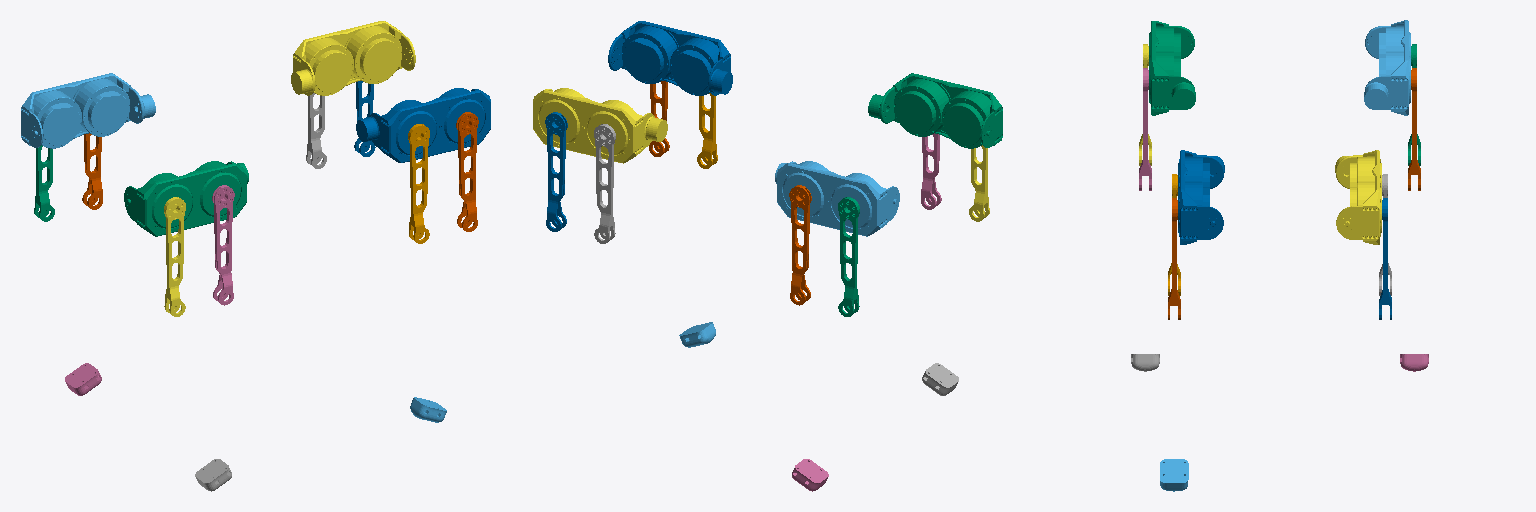
robot.urdf — olympus_v4_instanceable_open:
<?xml version='1.0' encoding='utf-8'?>
<robot name="olympus_v4_instanceable_open">
<link name="world"/> 

<link name="InnerShank_BL">
  <inertial>
    <origin xyz="0. 0. 0." rpy="0. 0. 0." />
    <mass value="1.0" />
    <inertia ixx="1.0" ixy="0.0" ixz="0.0" iyy="1.0" iyz="0.0" izz="1.0" />
  </inertial>
  <visual>
    <origin xyz="0. 0. 0." rpy="-0. 0.0000005 -1.5707961" />
    <geometry>
      <mesh filename="meshes/InnerShank_BL_visuals_xform_visuals.obj" scale="1. 1. 1." />
    </geometry>
  </visual>
  <!--collision>
    <origin xyz="0. -0.0202064 -0.1502008" rpy="-0. -0.0523594 -1.5707961" />
    <geometry>
      <cylinder radius="0.015" length="0.3" />
    </geometry>
  </collision-->
</link>
<link name="InnerShank_BR">
  <inertial>
    <origin xyz="0. 0. 0." rpy="0. 0. 0." />
    <mass value="1.0" />
    <inertia ixx="1.0" ixy="0.0" ixz="0.0" iyy="1.0" iyz="0.0" izz="1.0" />
  </inertial>
  <visual>
    <origin xyz="0. 0. 0." rpy="-0. 0.0000005 -1.5707961" />
    <geometry>
      <mesh filename="meshes/InnerShank_BR_visuals_xform_visuals.obj" scale="1. 1. 1." />
    </geometry>
  </visual>
  <!--collision>
    <origin xyz="0. -0.0202064 -0.1502008" rpy="-0. -0.0523594 -1.5707961" />
    <geometry>
      <cylinder radius="0.015" length="0.3" />
    </geometry>
  </collision-->
</link>
<link name="InnerShank_FL">
  <inertial>
    <origin xyz="0. 0. 0." rpy="0. 0. 0." />
    <mass value="1.0" />
    <inertia ixx="1.0" ixy="0.0" ixz="0.0" iyy="1.0" iyz="0.0" izz="1.0" />
  </inertial>
  <visual>
    <origin xyz="0. 0. 0." rpy="-0. -0.0000057 1.5707964" />
    <geometry>
      <mesh filename="meshes/InnerShank_FL_visuals_xform_visuals.obj" scale="1. 1. 1." />
    </geometry>
  </visual>
  <!--collision>
    <origin xyz="0. -0.0202091 -0.1502009" rpy="-0. 0.0523542 1.5707964" />
    <geometry>
      <cylinder radius="0.015" length="0.3" />
    </geometry>
  </collision-->
</link>
<link name="InnerShank_FR">
  <inertial>
    <origin xyz="0. 0. 0." rpy="0. 0. 0." />
    <mass value="1.0" />
    <inertia ixx="1.0" ixy="0.0" ixz="0.0" iyy="1.0" iyz="0.0" izz="1.0" />
  </inertial>
  <visual>
    <origin xyz="0. 0. 0." rpy="-0. -0.0000057 1.5707964" />
    <geometry>
      <mesh filename="meshes/InnerShank_FR_visuals_xform_visuals.obj" scale="1. 1. 1." />
    </geometry>
  </visual>
  <!--collision>
    <origin xyz="0. -0.0202091 -0.1502009" rpy="-0. 0.0523542 1.5707964" />
    <geometry>
      <cylinder radius="0.015" length="0.3" />
    </geometry>
  </collision-->
</link>
<link name="InnerThigh_BL">
  <inertial>
    <origin xyz="0. 0. 0." rpy="0. 0. 0." />
    <mass value="1.0" />
    <inertia ixx="1.0" ixy="0.0" ixz="0.0" iyy="1.0" iyz="0.0" izz="1.0" />
  </inertial>
  <visual>
    <origin xyz="0. 0. 0." rpy="0. 0. 1.5707961" />
    <geometry>
      <mesh filename="meshes/InnerThigh_BL_visuals_xform_visuals.obj" scale="1. 1. 1." />
    </geometry>
  </visual>
  <!--collision>
    <origin xyz="0. 0. -0.0843053" rpy="0. 0. 1.5707961" />
    <geometry>
      <box size="0.04 0.01 0.18" />
    </geometry>
  </collision-->
</link>
<link name="InnerThigh_BR">
  <inertial>
    <origin xyz="0. 0. 0." rpy="0. 0. 0." />
    <mass value="1.0" />
    <inertia ixx="1.0" ixy="0.0" ixz="0.0" iyy="1.0" iyz="0.0" izz="1.0" />
  </inertial>
  <visual>
    <origin xyz="0. 0. 0." rpy="0. 0. 1.5707961" />
    <geometry>
      <mesh filename="meshes/InnerThigh_BR_visuals_xform_visuals.obj" scale="1. 1. 1." />
    </geometry>
  </visual>
  <!--collision>
    <origin xyz="0. 0. -0.0843053" rpy="0. 0. 1.5707961" />
    <geometry>
      <box size="0.04 0.01 0.18" />
    </geometry>
  </collision-->
</link>
<link name="InnerThigh_FL">
  <inertial>
    <origin xyz="0. 0. 0." rpy="0. 0. 0." />
    <mass value="1.0" />
    <inertia ixx="1.0" ixy="0.0" ixz="0.0" iyy="1.0" iyz="0.0" izz="1.0" />
  </inertial>
  <visual>
    <origin xyz="0. 0. 0." rpy="0. 0. -1.5707961" />
    <geometry>
      <mesh filename="meshes/InnerThigh_FL_visuals_xform_visuals.obj" scale="1. 1. 1." />
    </geometry>
  </visual>
  <!--collision>
    <origin xyz="0. 0. -0.0843053" rpy="0. 0. -1.5707961" />
    <geometry>
      <box size="0.04 0.01 0.18" />
    </geometry>
  </collision-->
</link>
<link name="InnerThigh_FR">
  <inertial>
    <origin xyz="0. 0. 0." rpy="0. 0. 0." />
    <mass value="1.0" />
    <inertia ixx="1.0" ixy="0.0" ixz="0.0" iyy="1.0" iyz="0.0" izz="1.0" />
  </inertial>
  <visual>
    <origin xyz="0. 0. 0." rpy="0. 0. -1.5707961" />
    <geometry>
      <mesh filename="meshes/InnerThigh_FR_visuals_xform_visuals.obj" scale="1. 1. 1." />
    </geometry>
  </visual>
  <!--collision>
    <origin xyz="0. 0. -0.0843053" rpy="0. 0. -1.5707961" />
    <geometry>
      <box size="0.04 0.01 0.18" />
    </geometry>
  </collision-->
</link>
<link name="MotorHosing_BL">
  <inertial>
    <origin xyz="0. 0. 0." rpy="0. 0. 0." />
    <mass value="1.0" />
    <inertia ixx="1.0" ixy="0.0" ixz="0.0" iyy="1.0" iyz="0.0" izz="1.0" />
  </inertial>
  <visual>
    <origin xyz="0. 0. 0." rpy="0. 0. 0." />
    <geometry>
      <mesh filename="meshes/MotorHosing_BL_visuals_xform_visuals.obj" scale="1. 1. 1." />
    </geometry>
  </visual>
</link>
<link name="MotorHousing_BR">
  <inertial>
    <origin xyz="0. 0. 0." rpy="0. 0. 0." />
    <mass value="1.0" />
    <inertia ixx="1.0" ixy="0.0" ixz="0.0" iyy="1.0" iyz="0.0" izz="1.0" />
  </inertial>
  <visual>
    <origin xyz="0. 0. 0." rpy="0. 0. -3.1415927" />
    <geometry>
      <mesh filename="meshes/MotorHousing_BR_visuals_xform_visuals.obj" scale="1. 1. 1." />
    </geometry>
  </visual>
</link>
<link name="MotorHousing_FL">
  <inertial>
    <origin xyz="0. 0. 0." rpy="0. 0. 0." />
    <mass value="1.0" />
    <inertia ixx="1.0" ixy="0.0" ixz="0.0" iyy="1.0" iyz="0.0" izz="1.0" />
  </inertial>
  <visual>
    <origin xyz="0. 0. 0." rpy="0. 0. 0." />
    <geometry>
      <mesh filename="meshes/MotorHousing_FL_visuals_xform_visuals.obj" scale="1. 1. 1." />
    </geometry>
  </visual>
</link>
<link name="MotorHousing_FR">
  <inertial>
    <origin xyz="0. 0. 0." rpy="0. 0. 0." />
    <mass value="1.0" />
    <inertia ixx="1.0" ixy="0.0" ixz="0.0" iyy="1.0" iyz="0.0" izz="1.0" />
  </inertial>
  <visual>
    <origin xyz="0. 0. 0." rpy="3.1415927 0.0000001 3.1415927" />
    <geometry>
      <mesh filename="meshes/MotorHousing_FR_visuals_xform_visuals.obj" scale="1. 1. 1." />
    </geometry>
  </visual>
</link>
<link name="Body">
  <visual>
    <origin xyz="0. 0. 1." rpy="0. 0. 0." />
    <geometry>
      <mesh filename="meshes/Body_visuals_xform_visuals.obj" scale="1. 1. 1." />
    </geometry>
  </visual>
  <!--collision>
    <origin xyz="0. 0. 1.0155424" rpy="0. 0. 0." />
    <geometry>
      <box size="0.24 0.23 0.13" />
    </geometry>
  </collision-->
  <!--collision>
    <origin xyz="0. 0. 1.0330414" rpy="0. 0. 0." />
    <geometry>
      <box size="0.7 0.15 0.15" />
    </geometry>
  </collision-->
  <!--collision>
    <origin xyz="0.1182589 -0.0947598 1. " rpy="0. 1.5707964 0. " />
    <geometry>
      <cylinder radius="0.06" length="0.04" />
    </geometry>
  </collision-->
  <!--collision>
    <origin xyz="0.1182589 0.09476 1. " rpy="0. 1.5707964 0. " />
    <geometry>
      <cylinder radius="0.06" length="0.04" />
    </geometry>
  </collision-->
  <!--collision>
    <origin xyz="-0.121796 0.1391862 1. " rpy="0. 1.5707964 0. " />
    <geometry>
      <cylinder radius="0.06" length="0.04" />
    </geometry>
  </collision-->
  <!--collision>
    <origin xyz="-0.121796 -0.13919 1. " rpy="0. 1.5707964 0. " />
    <geometry>
      <cylinder radius="0.06" length="0.04" />
    </geometry>
  </collision-->
</link>
<link name="OuterShank_BL">
  <inertial>
    <origin xyz="0. 0. 0." rpy="0. 0. 0." />
    <mass value="1.0" />
    <inertia ixx="1.0" ixy="0.0" ixz="0.0" iyy="1.0" iyz="0.0" izz="1.0" />
  </inertial>
  <visual>
    <origin xyz="0. 0. 0." rpy="-0. -0.0000045 1.5707963" />
    <geometry>
      <mesh filename="meshes/OuterShank_BL_visuals_xform_visuals.obj" scale="1. 1. 1." />
    </geometry>
  </visual>
  <!--collision>
    <origin xyz="0. -0.00643 -0.1501257" rpy="-0. -0.0523644 1.5707963" />
    <geometry>
      <cylinder radius="0.015" length="0.3" />
    </geometry>
  </collision-->
</link>
<link name="OuterShank_BR">
  <inertial>
    <origin xyz="0. 0. 0." rpy="0. 0. 0." />
    <mass value="1.0" />
    <inertia ixx="1.0" ixy="0.0" ixz="0.0" iyy="1.0" iyz="0.0" izz="1.0" />
  </inertial>
  <visual>
    <origin xyz="0. 0. 0." rpy="-0. -0.0000045 1.5707963" />
    <geometry>
      <mesh filename="meshes/OuterShank_BR_visuals_xform_visuals.obj" scale="1. 1. 1." />
    </geometry>
  </visual>
  <!--collision>
    <origin xyz="0. -0.00643 -0.1501257" rpy="-0. -0.0523644 1.5707963" />
    <geometry>
      <cylinder radius="0.015" length="0.3" />
    </geometry>
  </collision-->
</link>
<link name="OuterShank_FL">
  <inertial>
    <origin xyz="0. 0. 0." rpy="0. 0. 0." />
    <mass value="1.0" />
    <inertia ixx="1.0" ixy="0.0" ixz="0.0" iyy="1.0" iyz="0.0" izz="1.0" />
  </inertial>
  <visual>
    <origin xyz="0. 0. 0." rpy="0. 0.0000006 -1.5707964" />
    <geometry>
      <mesh filename="meshes/OuterShank_FL_visuals_xform_visuals.obj" scale="1. 1. 1." />
    </geometry>
  </visual>
  <!--collision>
    <origin xyz="0. -0.0064299 -0.1501257" rpy="0. 0.0523605 -1.5707964" />
    <geometry>
      <cylinder radius="0.015" length="0.3" />
    </geometry>
  </collision-->
</link>
<link name="OuterShank_FR">
  <inertial>
    <origin xyz="0. 0. 0." rpy="0. 0. 0." />
    <mass value="1.0" />
    <inertia ixx="1.0" ixy="0.0" ixz="0.0" iyy="1.0" iyz="0.0" izz="1.0" />
  </inertial>
  <visual>
    <origin xyz="0. 0. 0." rpy="0. 0.0000006 -1.5707964" />
    <geometry>
      <mesh filename="meshes/OuterShank_FR_visuals_xform_visuals.obj" scale="1. 1. 1." />
    </geometry>
  </visual>
  <!--collision>
    <origin xyz="0. -0.0064299 -0.1501257" rpy="0. 0.0523605 -1.5707964" />
    <geometry>
      <cylinder radius="0.015" length="0.3" />
    </geometry>
  </collision-->
</link>
<link name="OuterThigh_BL">
  <inertial>
    <origin xyz="0. 0. 0." rpy="0. 0. 0." />
    <mass value="1.0" />
    <inertia ixx="1.0" ixy="0.0" ixz="0.0" iyy="1.0" iyz="0.0" izz="1.0" />
  </inertial>
  <visual>
    <origin xyz="0. 0. 0." rpy="0. 0. -1.5707961" />
    <geometry>
      <mesh filename="meshes/OuterThigh_BL_visuals_xform_visuals.obj" scale="1. 1. 1." />
    </geometry>
  </visual>
  <!--collision>
    <origin xyz="0. 0. -0.0843053" rpy="0. 0. -1.5707961" />
    <geometry>
      <box size="0.04 0.01 0.18" />
    </geometry>
  </collision-->
</link>
<link name="OuterThigh_BR">
  <inertial>
    <origin xyz="0. 0. 0." rpy="0. 0. 0." />
    <mass value="1.0" />
    <inertia ixx="1.0" ixy="0.0" ixz="0.0" iyy="1.0" iyz="0.0" izz="1.0" />
  </inertial>
  <visual>
    <origin xyz="0. 0. 0." rpy="0. 0. -1.5707961" />
    <geometry>
      <mesh filename="meshes/OuterThigh_BR_visuals_xform_visuals.obj" scale="1. 1. 1." />
    </geometry>
  </visual>
  <!--collision>
    <origin xyz="0. 0. -0.0843053" rpy="0. 0. -1.5707961" />
    <geometry>
      <box size="0.04 0.01 0.18" />
    </geometry>
  </collision-->
</link>
<link name="OuterThigh_FL">
  <inertial>
    <origin xyz="0. 0. 0." rpy="0. 0. 0." />
    <mass value="1.0" />
    <inertia ixx="1.0" ixy="0.0" ixz="0.0" iyy="1.0" iyz="0.0" izz="1.0" />
  </inertial>
  <visual>
    <origin xyz="0. 0. 0." rpy="0. 0. 1.5707961" />
    <geometry>
      <mesh filename="meshes/OuterThigh_FL_visuals_xform_visuals.obj" scale="1. 1. 1." />
    </geometry>
  </visual>
  <!--collision>
    <origin xyz="0. 0. -0.0843053" rpy="0. 0. 1.5707961" />
    <geometry>
      <box size="0.04 0.01 0.18" />
    </geometry>
  </collision-->
</link>
<link name="OuterThigh_FR">
  <inertial>
    <origin xyz="0. 0. 0." rpy="0. 0. 0." />
    <mass value="1.0" />
    <inertia ixx="1.0" ixy="0.0" ixz="0.0" iyy="1.0" iyz="0.0" izz="1.0" />
  </inertial>
  <visual>
    <origin xyz="0. 0. 0." rpy="0. 0. 1.5707961" />
    <geometry>
      <mesh filename="meshes/OuterThigh_FR_visuals_xform_visuals.obj" scale="1. 1. 1." />
    </geometry>
  </visual>
  <!--collision>
    <origin xyz="0. 0. -0.0843053" rpy="0. 0. 1.5707961" />
    <geometry>
      <box size="0.04 0.01 0.18" />
    </geometry>
  </collision-->
</link>
<link name="Paw_BL">
  <inertial>
    <origin xyz="0. 0. 0." rpy="0. 0. 0." />
    <mass value="1.0" />
    <inertia ixx="1.0" ixy="0.0" ixz="0.0" iyy="1.0" iyz="0.0" izz="1.0" />
  </inertial>
  <visual>
    <origin xyz="0.0000001 0. -0.0000001" rpy="0. -1.5707958 -0. " />
    <geometry>
      <mesh filename="meshes/Paw_BL_visuals_xform_visuals.obj" scale="1. 1. 1." />
    </geometry>
  </visual>
  <visual>
    <origin xyz="0.0000001 0. -0.0000001" rpy="0. -1.5707958 -0. " />
    <geometry>
      <mesh filename="meshes/Paw_BL_collisions_xform_collisions.obj" scale="1. 1. 1." />
    </geometry>
  </visual>
  <!--collision>
    <origin xyz="0.0000001 0. -0.0000001" rpy="0. -1.5707958 -0. " />
    <geometry>
      <mesh filename="meshes/Paw_BL_collisions_xform_collisions.obj" scale="1. 1. 1." />
    </geometry>
  </collision-->
</link>
<link name="Paw_BR">
  <inertial>
    <origin xyz="0. 0. 0." rpy="0. 0. 0." />
    <mass value="1.0" />
    <inertia ixx="1.0" ixy="0.0" ixz="0.0" iyy="1.0" iyz="0.0" izz="1.0" />
  </inertial>
  <visual>
    <origin xyz="0.0000001 0. -0.0000001" rpy="-0. -1.5707958 0. " />
    <geometry>
      <mesh filename="meshes/Paw_BR_visuals_xform_visuals.obj" scale="1. 1. 1." />
    </geometry>
  </visual>
  <visual>
    <origin xyz="0.0000001 0. -0.0000001" rpy="-0. -1.5707958 0. " />
    <geometry>
      <mesh filename="meshes/Paw_BR_collisions_xform_collisions.obj" scale="1. 1. 1." />
    </geometry>
  </visual>
  <!--collision>
    <origin xyz="0.0000001 0. -0.0000001" rpy="-0. -1.5707958 0. " />
    <geometry>
      <mesh filename="meshes/Paw_BR_collisions_xform_collisions.obj" scale="1. 1. 1." />
    </geometry>
  </collision-->
</link>
<link name="Paw_FL">
  <inertial>
    <origin xyz="0. 0. 0." rpy="0. 0. 0." />
    <mass value="1.0" />
    <inertia ixx="1.0" ixy="0.0" ixz="0.0" iyy="1.0" iyz="0.0" izz="1.0" />
  </inertial>
  <visual>
    <origin xyz="0.0000001 0. 0.0000001" rpy="-3.1415925 -1.5707958 3.1415925" />
    <geometry>
      <mesh filename="meshes/Paw_FL_visuals_xform_visuals.obj" scale="1. 1. 1." />
    </geometry>
  </visual>
  <visual>
    <origin xyz="0.0000001 0. 0.0000001" rpy="-3.1415925 -1.5707958 3.1415925" />
    <geometry>
      <mesh filename="meshes/Paw_FL_collisions_xform_collisions.obj" scale="1. 1. 1." />
    </geometry>
  </visual>
  <!--collision>
    <origin xyz="0.0000001 0. 0.0000001" rpy="-3.1415925 -1.5707958 3.1415925" />
    <geometry>
      <mesh filename="meshes/Paw_FL_collisions_xform_collisions.obj" scale="1. 1. 1." />
    </geometry>
  </collision-->
</link>
<link name="Paw_FR">
  <inertial>
    <origin xyz="0. 0. 0." rpy="0. 0. 0." />
    <mass value="1.0" />
    <inertia ixx="1.0" ixy="0.0" ixz="0.0" iyy="1.0" iyz="0.0" izz="1.0" />
  </inertial>
  <visual>
    <origin xyz="0.0000001 0. 0.0000001" rpy="-3.1415925 -1.5707958 3.1415925" />
    <geometry>
      <mesh filename="meshes/Paw_FR_visuals_xform_visuals.obj" scale="1. 1. 1." />
    </geometry>
  </visual>
  <visual>
    <origin xyz="0.0000001 0. 0.0000001" rpy="-3.1415925 -1.5707958 3.1415925" />
    <geometry>
      <mesh filename="meshes/Paw_FR_collisions_xform_collisions.obj" scale="1. 1. 1." />
    </geometry>
  </visual>
  <!--collision>
    <origin xyz="0.0000001 0. 0.0000001" rpy="-3.1415925 -1.5707958 3.1415925" />
    <geometry>
      <mesh filename="meshes/Paw_FR_collisions_xform_collisions.obj" scale="1. 1. 1." />
    </geometry>
  </collision-->
</link>

<joint name="world_joint" type="fixed">
  <parent link="world"/>
  <child link="Body"/>
  <origin xyz="0 0 0" rpy="0 0 0"/>
</joint>

<joint name="BackLeft_paw" type="fixed">
  <origin xyz="0. -0.034316 -0.3182872" rpy="3.1415927 0.9830509 -1.5707963" />
  <parent link="InnerShank_BL" />
  <child link="Paw_BL" />
</joint>
<joint name="BackRight_paw" type="fixed">
  <origin xyz="0. -0.034316 -0.3182872" rpy="3.1415927 0.9830509 -1.5707961" />
  <parent link="InnerShank_BR" />
  <child link="Paw_BR" />
</joint>
<joint name="FrontLeft_paw" type="fixed">
  <origin xyz="0. -0.0343144 -0.3182873" rpy="0. 0.9830561 -1.5707963" />
  <parent link="InnerShank_FL" />
  <child link="Paw_FL" />
</joint>
<joint name="FrontRight_paw" type="fixed">
  <origin xyz="0. -0.0343144 -0.3182873" rpy="0. 0.9830561 -1.5707963" />
  <parent link="InnerShank_FR" />
  <child link="Paw_FR" />
</joint>
<joint name="InnerKnee_BL" type="continuous">
  <origin xyz="-0.00075 0. -0.175 " rpy="0.1561075 0. 3.1415925" />
  <parent link="InnerThigh_BL" />
  <child link="InnerShank_BL" />
  <axis xyz="1. 0. 0." />
</joint>
<joint name="InnerKnee_BR" type="continuous">
  <origin xyz="0.00075 -0. -0.175 " rpy="0.1561075 0. 3.1415925" />
  <parent link="InnerThigh_BR" />
  <child link="InnerShank_BR" />
  <axis xyz="1. 0. 0." />
</joint>
<joint name="InnerKnee_FL" type="continuous">
  <origin xyz="0.00075 0. -0.175 " rpy="0.1561023 0. -3.1415925" />
  <parent link="InnerThigh_FL" />
  <child link="InnerShank_FL" />
  <axis xyz="1. 0. 0." />
</joint>
<joint name="InnerKnee_FR" type="continuous">
  <origin xyz="-0.00075 -0. -0.175 " rpy="0.1561023 0. -3.1415925" />
  <parent link="InnerThigh_FR" />
  <child link="InnerShank_FR" />
  <axis xyz="1. 0. 0." />
</joint>
<joint name="InnerTransversalMotor_BL" type="continuous">
  <origin xyz="-0.0517 0.05945 0.0000113" rpy="0. 0. -1.5707964" />
  <parent link="MotorHosing_BL" />
  <child link="InnerThigh_BL" />
  <axis xyz="1. 0. 0." />
</joint>
<joint name="InnerTransversalMotor_BR" type="continuous">
  <origin xyz="0.0517 0.05945 -0.0000113" rpy="0. 0. 1.5707964" />
  <parent link="MotorHousing_BR" />
  <child link="InnerThigh_BR" />
  <axis xyz="1. 0. 0." />
</joint>
<joint name="InnerTransversalMotor_FL" type="continuous">
  <origin xyz="0.0517 0.05945 -0.0000113" rpy="0. 0. 1.5707964" />
  <parent link="MotorHousing_FL" />
  <child link="InnerThigh_FL" />
  <axis xyz="1. 0. 0." />
</joint>
<joint name="InnerTransversalMotor_FR" type="continuous">
  <origin xyz="-0.0517 -0.05945 -0.0000113" rpy="3.1415925 0. 1.5707964" />
  <parent link="MotorHousing_FR" />
  <child link="InnerThigh_FR" />
  <axis xyz="1. 0. 0." />
</joint>
<joint name="LateralMotor_BL" type="continuous">
  <origin xyz="-0.1433 0.15 1. " rpy="0. 0. 0." />
  <parent link="Body" />
  <child link="MotorHosing_BL" />
  <axis xyz="1. 0. 0." />
</joint>
<joint name="LateralMotor_BR" type="continuous">
  <origin xyz="-0.1433 -0.15 1. " rpy="0. 0. 3.1415927" />
  <parent link="Body" />
  <child link="MotorHousing_BR" />
  <axis xyz="1. 0. 0." />
</joint>
<joint name="LateralMotor_FL" type="continuous">
  <origin xyz="0.1433 0.105 1. " rpy="0. 0. 0." />
  <parent link="Body" />
  <child link="MotorHousing_FL" />
  <axis xyz="1. 0. 0." />
</joint>
<joint name="LateralMotor_FR" type="continuous">
  <origin xyz="0.1433 -0.105 1. " rpy="3.1415927 -0.0000001 3.1415927" />
  <parent link="Body" />
  <child link="MotorHousing_FR" />
  <axis xyz="1. 0. 0." />
</joint>
<joint name="OuterKneeBL" type="continuous">
  <origin xyz="0.00075 0. -0.175 " rpy="0.1455256 0. -3.1415925" />
  <parent link="OuterThigh_BL" />
  <child link="OuterShank_BL" />
  <axis xyz="1. 0. 0." />
</joint>
<joint name="OuterKnee_BR" type="continuous">
  <origin xyz="-0.00075 -0. -0.175 " rpy="0.1455256 0. -3.1415925" />
  <parent link="OuterThigh_BR" />
  <child link="OuterShank_BR" />
  <axis xyz="1. 0. 0." />
</joint>
<joint name="OuterKnee_FL" type="continuous">
  <origin xyz="-0.00075 0. -0.175 " rpy="0.1455295 0. 3.1415925" />
  <parent link="OuterThigh_FL" />
  <child link="OuterShank_FL" />
  <axis xyz="1. 0. 0." />
</joint>
<joint name="OuterKnee_FR" type="continuous">
  <origin xyz="0.00075 -0. -0.175 " rpy="0.1455295 0. 3.1415925" />
  <parent link="OuterThigh_FR" />
  <child link="OuterShank_FR" />
  <axis xyz="1. 0. 0." />
</joint>
<joint name="OuterTransversalMotor_BL" type="continuous">
  <origin xyz="-0.1417 0.05945 0.0000113" rpy="0. 0. 1.5707964" />
  <parent link="MotorHosing_BL" />
  <child link="OuterThigh_BL" />
  <axis xyz="1. 0. 0." />
</joint>
<joint name="OuterTransversalMotor_BR" type="continuous">
  <origin xyz="0.1417 0.05945 -0.0000113" rpy="0. 0. -1.5707964" />
  <parent link="MotorHousing_BR" />
  <child link="OuterThigh_BR" />
  <axis xyz="1. 0. 0." />
</joint>
<joint name="OuterTransversalMotor_FL" type="continuous">
  <origin xyz="0.1417 0.05945 -0.0000113" rpy="0. 0. -1.5707964" />
  <parent link="MotorHousing_FL" />
  <child link="OuterThigh_FL" />
  <axis xyz="1. 0. 0." />
</joint>
<joint name="OuterTransversalMotor_FR" type="continuous">
  <origin xyz="-0.1417 -0.05945 -0.0000114" rpy="-3.1415925 0. -1.5707964" />
  <parent link="MotorHousing_FR" />
  <child link="OuterThigh_FR" />
  <axis xyz="1. 0. 0." />
</joint>
  
</robot>

--- Render facts (derived) ---
3 views of the same robot in one strip: view 1: azimuth 30°, elevation 25°; view 2: azimuth 150°, elevation 25°; view 3: azimuth 270°, elevation 25° (orthographic).
Model olympus_v4_instanceable_open with 26 links and 25 joints (20 continuous, 5 fixed), rooted at world, posed all joints at 0.
Visible links, largest first — view 1: MotorHosing_BL, MotorHousing_FL, MotorHousing_FR, MotorHousing_BR, InnerThigh_BR, OuterThigh_FR, InnerThigh_FR, OuterThigh_BR, InnerThigh_BL, OuterThigh_BL, InnerThigh_FL, Paw_BL (+3 smaller); view 2: MotorHousing_BR, MotorHousing_FR, MotorHousing_FL, MotorHosing_BL, InnerThigh_BL, OuterThigh_FL, InnerThigh_FL, OuterThigh_BL, InnerThigh_BR, OuterThigh_BR, InnerThigh_FR, Paw_BR (+3 smaller); view 3: MotorHosing_BL, MotorHousing_BR, MotorHousing_FL, MotorHousing_FR, Paw_FR, InnerThigh_BR, InnerThigh_BL, OuterThigh_FR, OuterThigh_FL.
Link boxes in pixels (x1,y1,x2,y2): MotorHosing_BL: (21, 73, 155, 148); MotorHousing_FL: (291, 21, 415, 95); MotorHousing_FR: (356, 88, 490, 162); MotorHousing_BR: (124, 161, 248, 236); InnerThigh_BR: (212, 185, 234, 305); OuterThigh_FR: (456, 112, 478, 231); InnerThigh_FR: (408, 124, 429, 243); OuterThigh_BR: (164, 197, 185, 316); InnerThigh_BL: (82, 133, 102, 209); OuterThigh_BL: (34, 145, 54, 221); InnerThigh_FL: (306, 93, 326, 168); Paw_BL: (65, 363, 101, 395); MotorHousing_BR: (868, 73, 1002, 148); MotorHousing_FR: (608, 21, 732, 95); MotorHousing_FL: (533, 88, 667, 163); MotorHosing_BL: (775, 161, 899, 236); InnerThigh_BL: (789, 185, 811, 305); OuterThigh_FL: (545, 112, 567, 231); InnerThigh_FL: (594, 124, 615, 243); OuterThigh_BL: (838, 197, 859, 316); InnerThigh_BR: (921, 133, 941, 209); OuterThigh_BR: (969, 145, 989, 221); InnerThigh_FR: (697, 93, 717, 168); Paw_BR: (922, 363, 958, 395); MotorHosing_BL: (1364, 20, 1410, 115); MotorHousing_BR: (1149, 21, 1195, 115); MotorHousing_FL: (1335, 150, 1381, 244); MotorHousing_FR: (1178, 150, 1224, 244); Paw_FR: (1160, 459, 1188, 491); InnerThigh_BR: (1139, 68, 1151, 190); InnerThigh_BL: (1408, 68, 1420, 190); OuterThigh_FR: (1168, 198, 1180, 319); OuterThigh_FL: (1379, 198, 1391, 319).
Size in the robot's own frame: 0.677 by 0.4654 by 0.5616 metres.
15 mesh visuals loaded from 29 distinct referenced files (15 OBJ); not drawn: 14 (reference not matched to a file when rendering).
